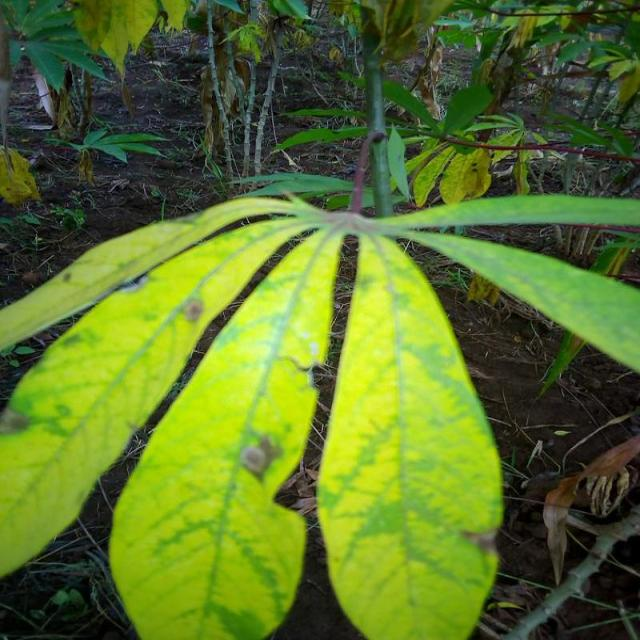cassava leaf: (107, 213, 345, 638), (315, 224, 505, 638)
